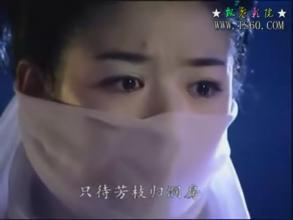OK: (63, 45, 232, 214)
